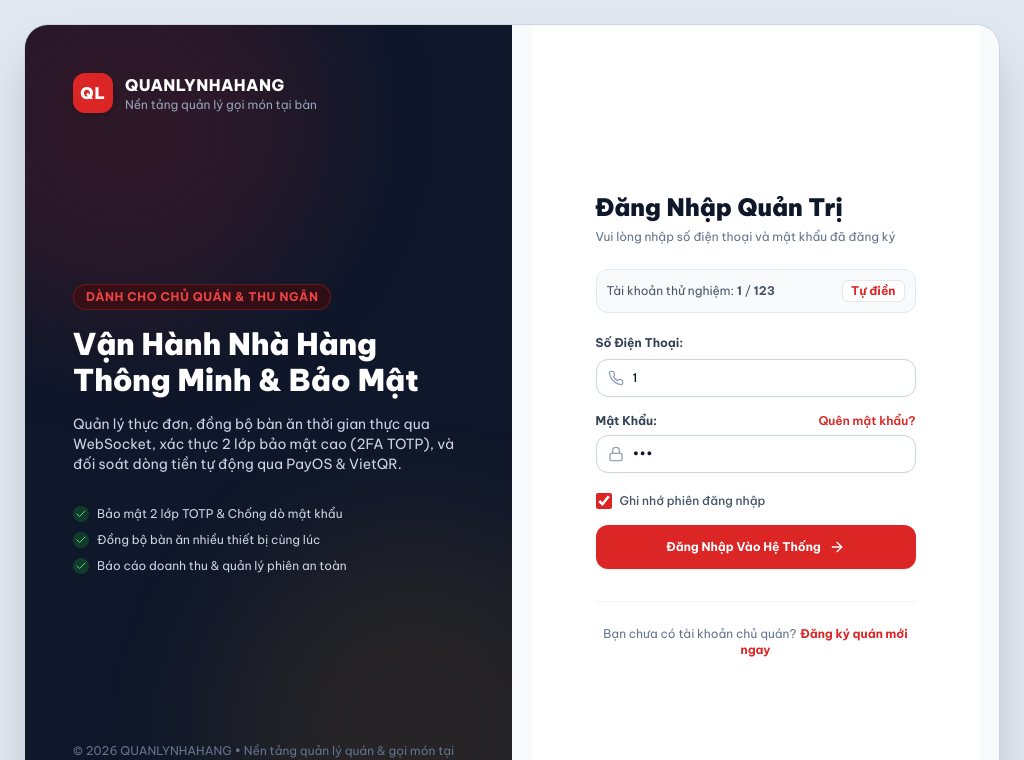
Scenario: Story A1: Admin Login Page (mockup a01) › allows filling dev credentials via quick button
// Clear inputs first
Clear the field with test id "login-phone-input" at x=756, y=378, box [596, 358, 916, 396]
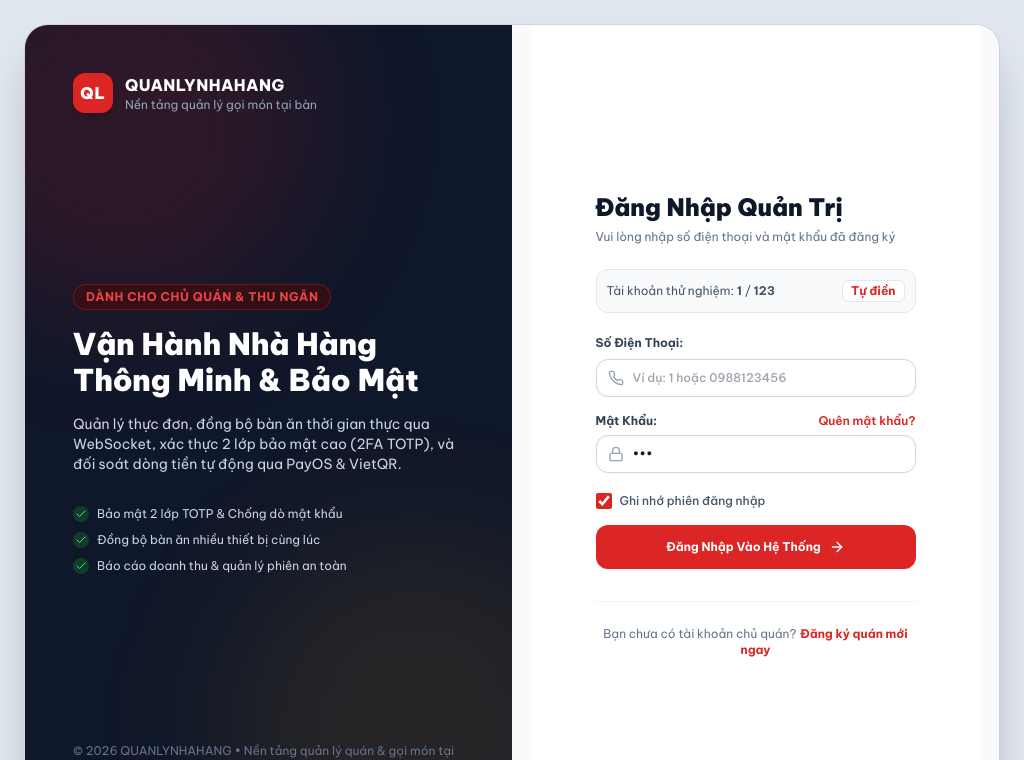
Clear the password field with test id "login-password-input" at x=756, y=454, box [596, 434, 916, 472]
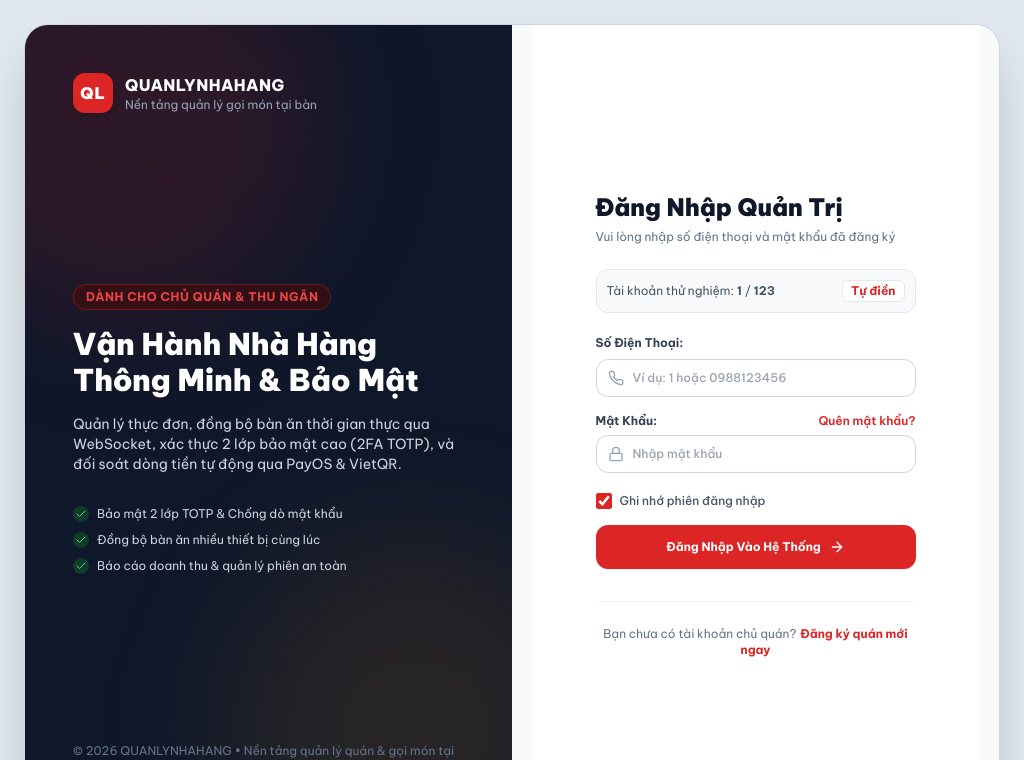
// Click dev hint button
Click the element with test id "login-dev-hint" at x=756, y=290, box [596, 268, 916, 312]
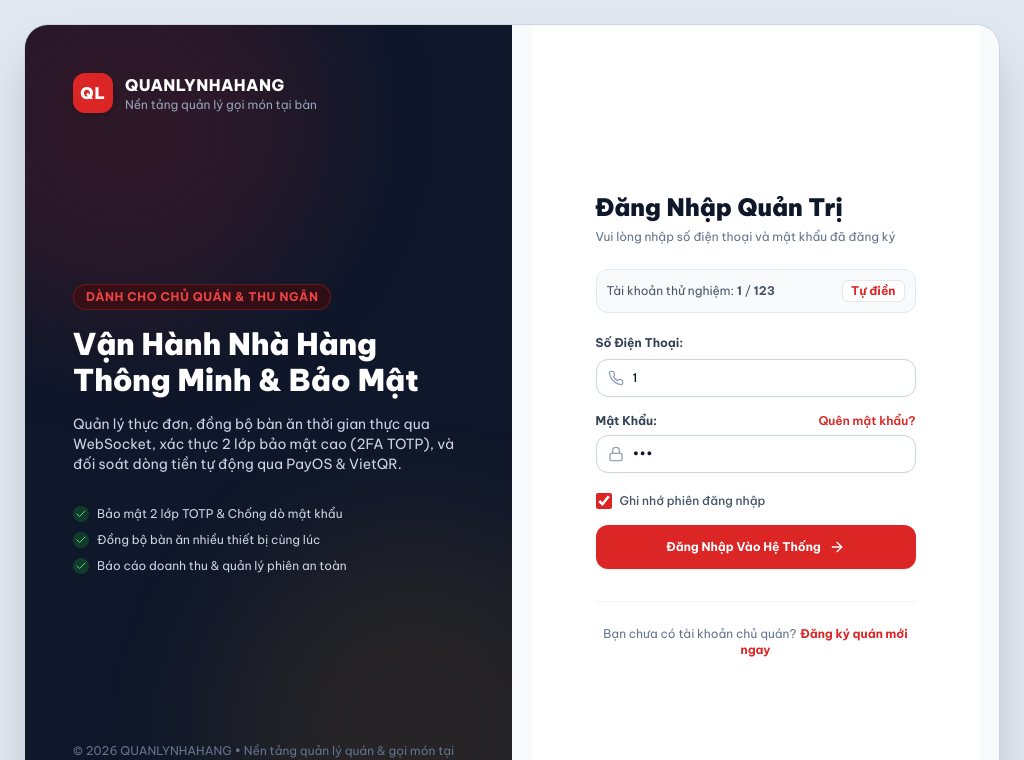
Expected: the field with test id "login-phone-input" holds "1", [596, 358, 916, 396]
Expected: the password field with test id "login-password-input" holds "123", [596, 434, 916, 472]
